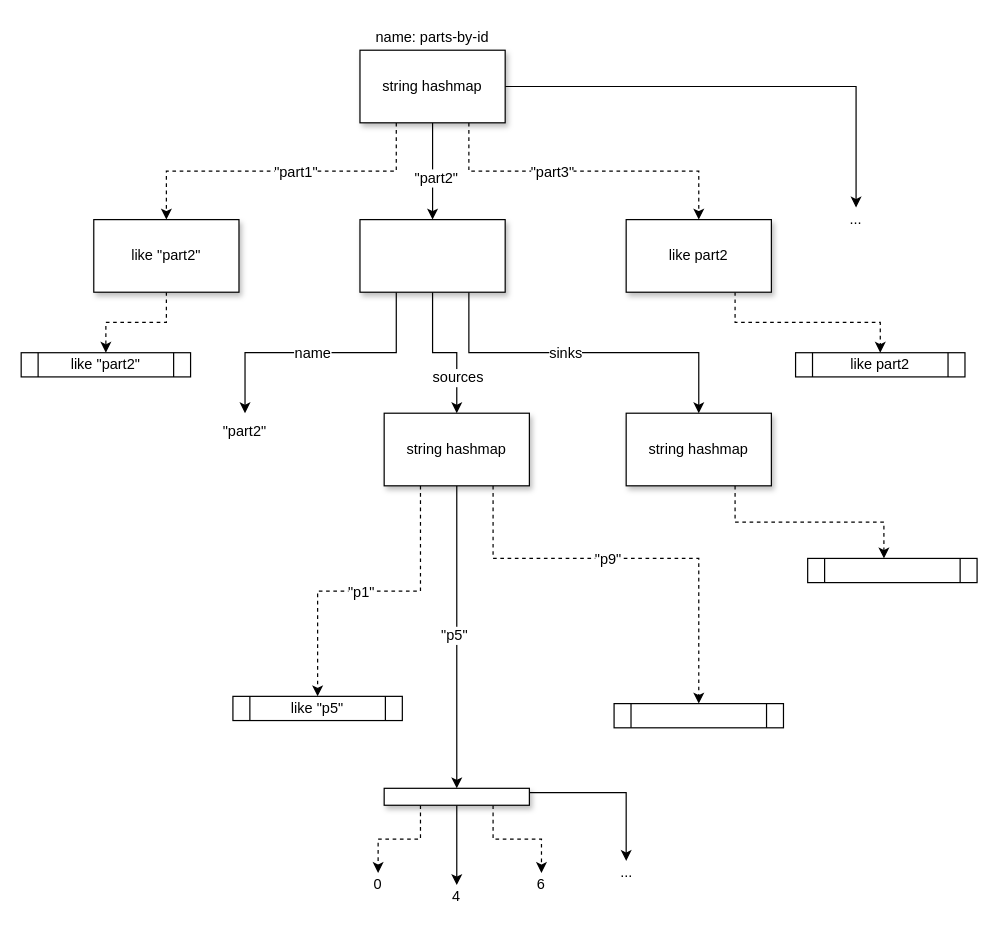
Some shapes in this 998 by 938 pixel diagram are drawn without their labels. The centre of each missing label's shape, as x and y in pixels:
"like p5" goes at pixel 698 715.
"like sources" goes at pixel 891 570.
"list of int" goes at pixel 457 798.
"part-descriptor-class" goes at pixel 433 257.
